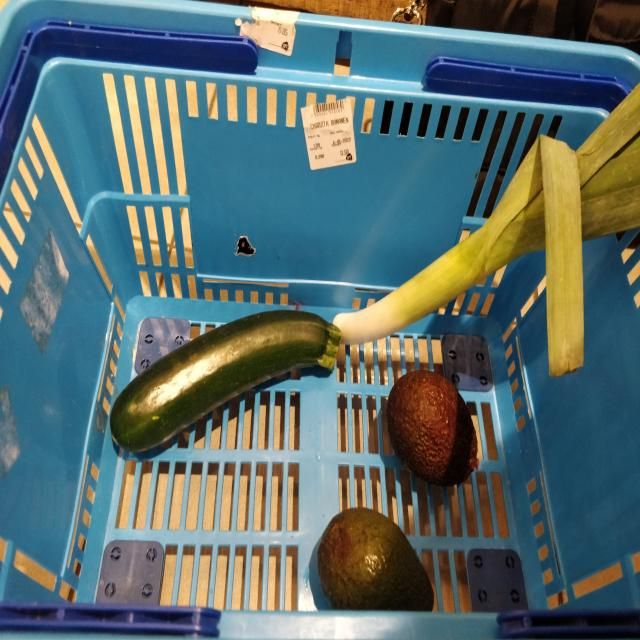avocado: (318, 509, 436, 613), (387, 369, 482, 489)
leek: (332, 96, 640, 378)
yogurt: (108, 310, 345, 461)
